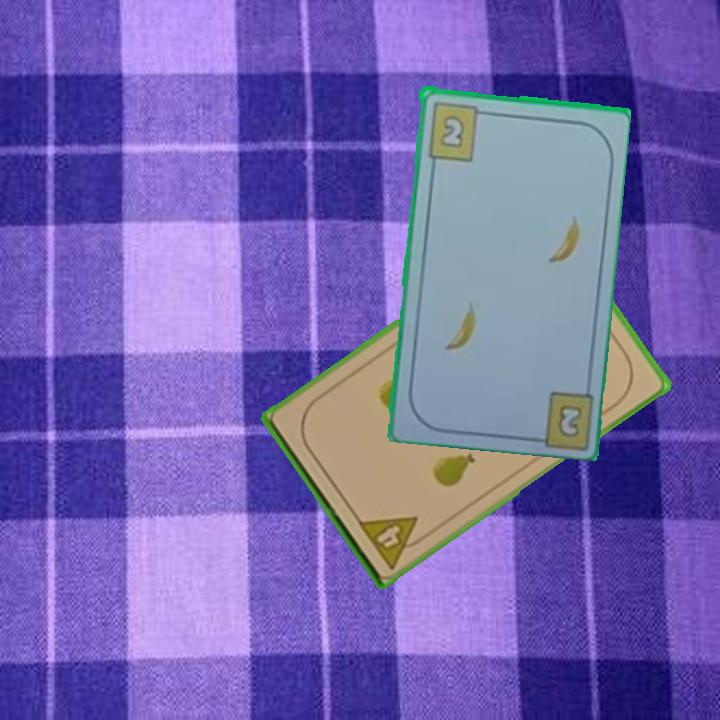2b: (423, 98, 490, 163), (554, 400, 585, 441)
4p: (354, 511, 431, 572)
